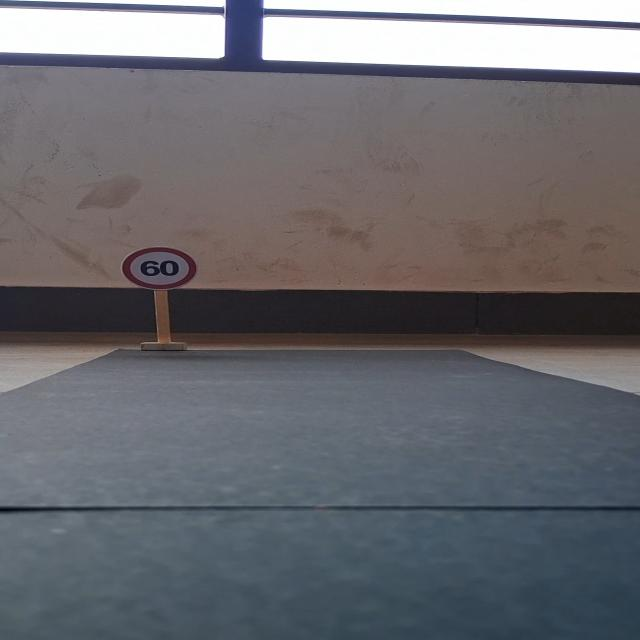Speed60: (123, 249, 198, 291)
